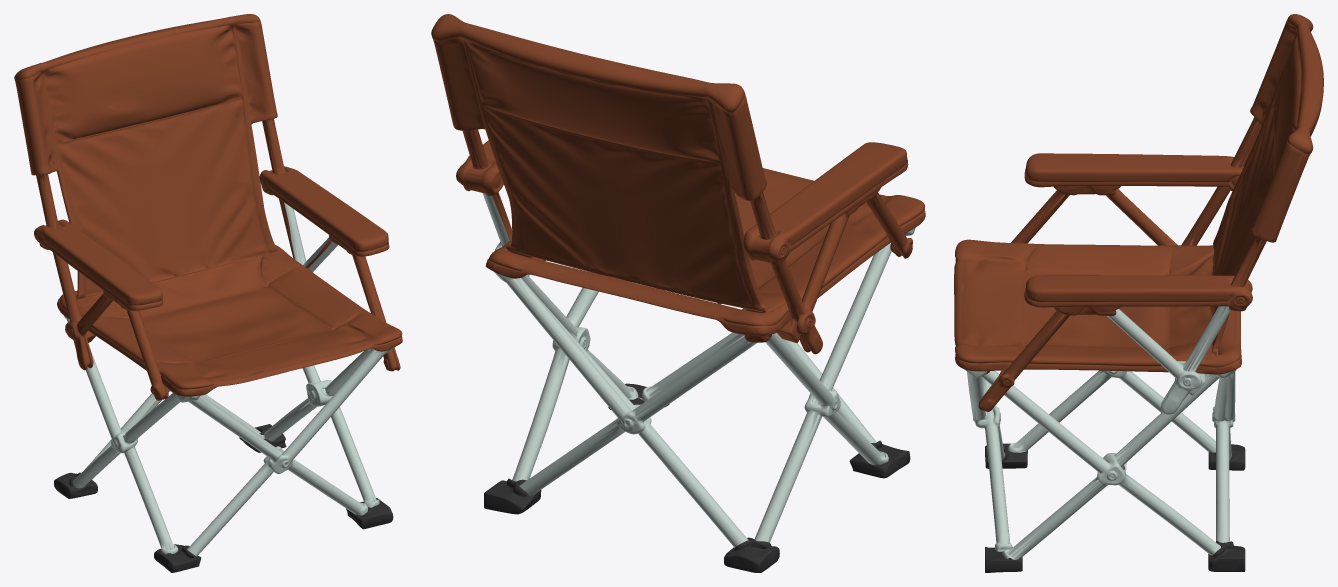
File: foldchair.glb
3 views of the same model, side by side, from view 1: azimuth 30°, elevation 25°; view 2: azimuth 150°, elevation 25°; view 3: azimuth 270°, elevation 25° (orthographic). The views are drawn at different scales.
Visible parts, largest first — view 1: foldchair_export_temp; view 2: foldchair_export_temp; view 3: foldchair_export_temp.
Part boxes in pixels (x1=…): foldchair_export_temp: x1=14, y1=14, x2=402, y2=572; foldchair_export_temp: x1=431, y1=14, x2=925, y2=572; foldchair_export_temp: x1=954, y1=14, x2=1323, y2=572.
Size of the model in its own units: 0.6059 by 0.8979 by 0.683.
